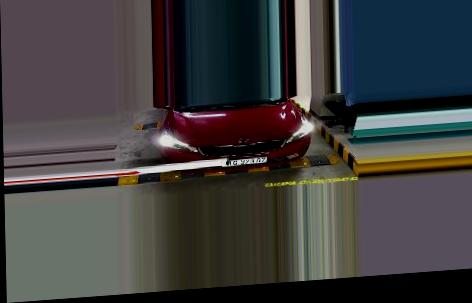License_Plate: (222, 154, 269, 170)
